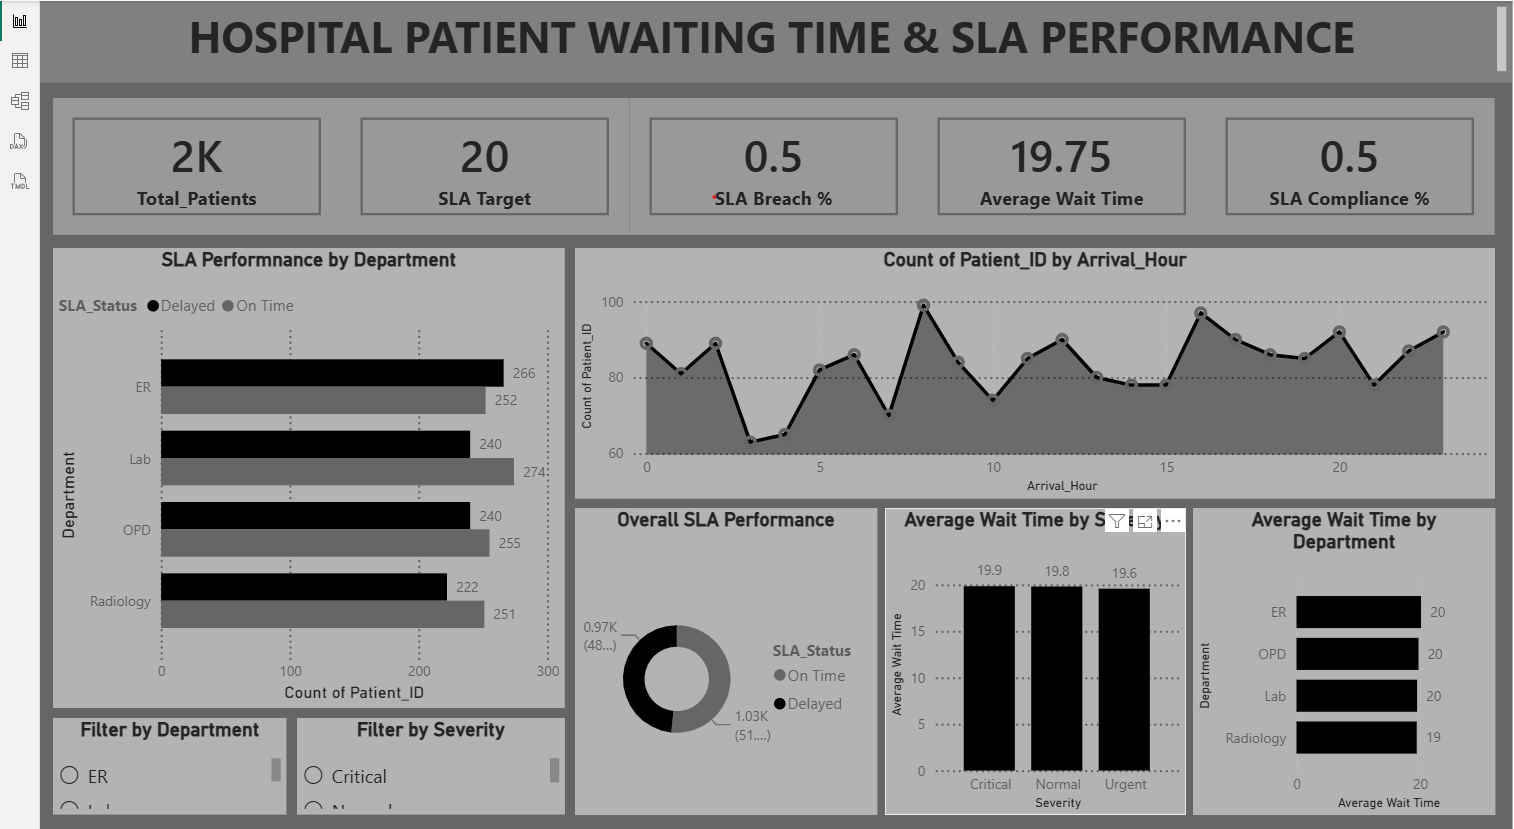

What the dashboard file says about the page in this screenshot:
{"tool":"powerbi","page":{"name":"Page 1","canvas":[1280,720],"ordinal":0},"visuals":[{"type":"textbox","box":[0,0,1280,70.5],"z":0},{"type":"cardVisual","fields":{"Data":["cleaned_hospital_dataset.Total_Patients"]},"box":[11.3,84.5,250.8,119.3],"z":1000},{"type":"cardVisual","fields":{"Data":["cleaned_hospital_dataset.Average Wait Time"]},"box":[763.5,84.3,250.8,119.3],"z":2000},{"type":"cardVisual","fields":{"Data":["cleaned_hospital_dataset.SLA Target"]},"box":[262.1,84.5,250.8,119.3],"z":3000},{"type":"cardVisual","fields":{"Data":["cleaned_hospital_dataset.SLA Compliance %"]},"box":[1013.9,84.3,250.8,119.3],"z":4000},{"type":"cardVisual","fields":{"Data":["cleaned_hospital_dataset.SLA Breach %"]},"box":[512.9,84.5,250.8,119.3],"z":5000},{"type":"clusteredBarChart","fields":{"Category":["cleaned_hospital_dataset.Department"],"Y":["cleaned_hospital_dataset.Average Wait Time"]},"box":[1002.2,440.6,263,267.3],"z":6000},{"type":"clusteredBarChart","title":"SLA Performnance by Department","fields":{"Category":["cleaned_hospital_dataset.Department"],"Series":["cleaned_hospital_dataset.SLA_Status"],"Y":["CountNonNull(cleaned_hospital_dataset.Patient_ID)"]},"box":[11.3,215.1,445,399.7],"z":7000},{"type":"donutChart","title":"Overall SLA Performance","fields":{"Category":["cleaned_hospital_dataset.SLA_Status"],"Y":["CountNonNull(cleaned_hospital_dataset.Patient_ID)"]},"box":[465,440.6,263,267.3],"z":8000},{"type":"clusteredColumnChart","fields":{"Category":["cleaned_hospital_dataset.Severity"],"Y":["cleaned_hospital_dataset.Average Wait Time"]},"box":[734.9,440.6,261.2,267.3],"z":9000},{"type":"listSlicer","title":"Filter by Department","fields":{"Values":["cleaned_hospital_dataset.Department"]},"box":[11.3,623.5,203.5,84.3],"z":10000},{"type":"listSlicer","title":"Filter by Severity","fields":{"Values":["cleaned_hospital_dataset.Severity"]},"box":[223.5,623.5,233,84.3],"z":11000},{"type":"lineChart","fields":{"Y":["CountNonNull(cleaned_hospital_dataset.Patient_ID)"],"Category":["cleaned_hospital_dataset.Arrival_Hour"]},"box":[465,215.1,800.2,217.7],"z":11001}]}

Visuals, with their boxes in screenshot pixels (x1, y1, x2, y2):
textbox: 24, 0, 1513, 75
cardVisual - cleaned_hospital_dataset.Total_Patients: 37, 91, 332, 232
cardVisual - cleaned_hospital_dataset.Average Wait Time: 921, 91, 1216, 231
cardVisual - cleaned_hospital_dataset.SLA Target: 332, 91, 627, 232
cardVisual - cleaned_hospital_dataset.SLA Compliance %: 1216, 91, 1511, 231
cardVisual - cleaned_hospital_dataset.SLA Breach %: 627, 91, 922, 232
clusteredBarChart - cleaned_hospital_dataset.Department x cleaned_hospital_dataset.Average Wait Time: 1202, 510, 1511, 824
"SLA Performnance by Department" clusteredBarChart: 37, 245, 560, 715
"Overall SLA Performance" donutChart: 570, 510, 880, 824
clusteredColumnChart - cleaned_hospital_dataset.Severity x cleaned_hospital_dataset.Average Wait Time: 888, 510, 1195, 824
"Filter by Department" listSlicer: 37, 725, 276, 824
"Filter by Severity" listSlicer: 286, 725, 560, 824
lineChart - CountNonNull(cleaned_hospital_dataset.Patient_ID) x cleaned_hospital_dataset.Arrival_Hour: 570, 245, 1511, 501
